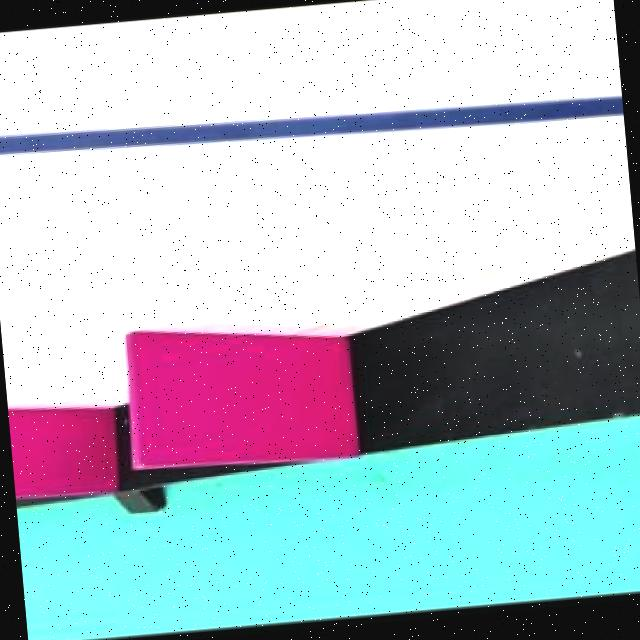xparking: (125, 317, 340, 456), (6, 399, 104, 482)
